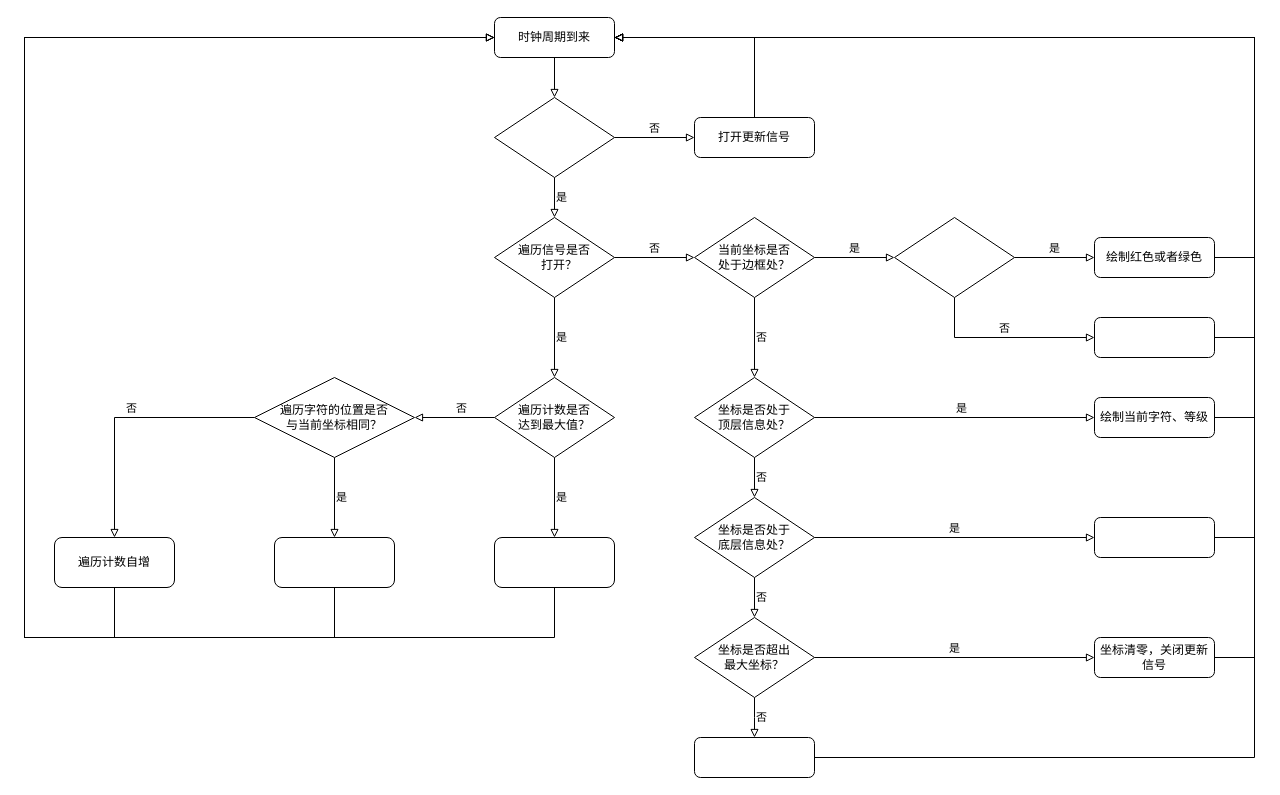
This 1280x795 diagram has some shape labels left out. The centre of each missing label's shape, as x and y in pixels:
"关闭遍历信号，清零遍历计数，绘制当前遍历的字符" goes at point 334,562.
"关闭遍历信号，清零遍历计数，绘制空字符" goes at point 554,562.
"开启遍历信号，坐标自增" goes at point 754,757.
"当前坐标是否 为发光点？" goes at point 954,257.
"更新信号是否 打开？" goes at point 554,137.
"绘制当前分数、MISS" goes at point 1154,537.
"绘制白色" goes at point 1154,337.
